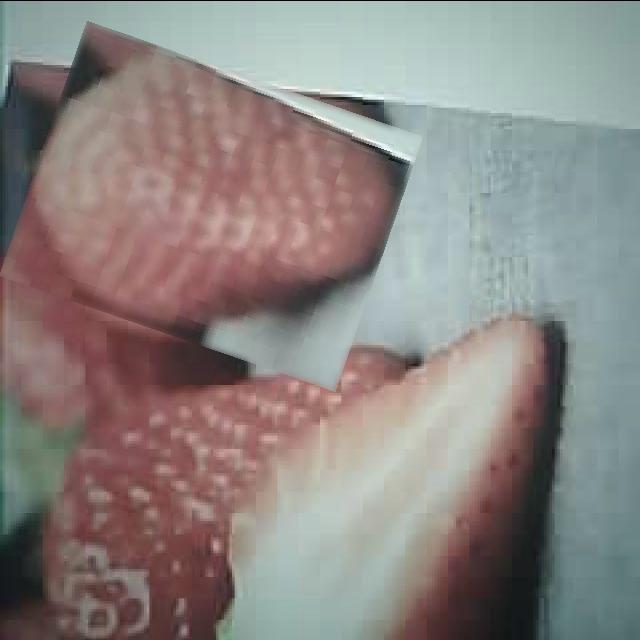strawberry: (16, 46, 406, 366)
